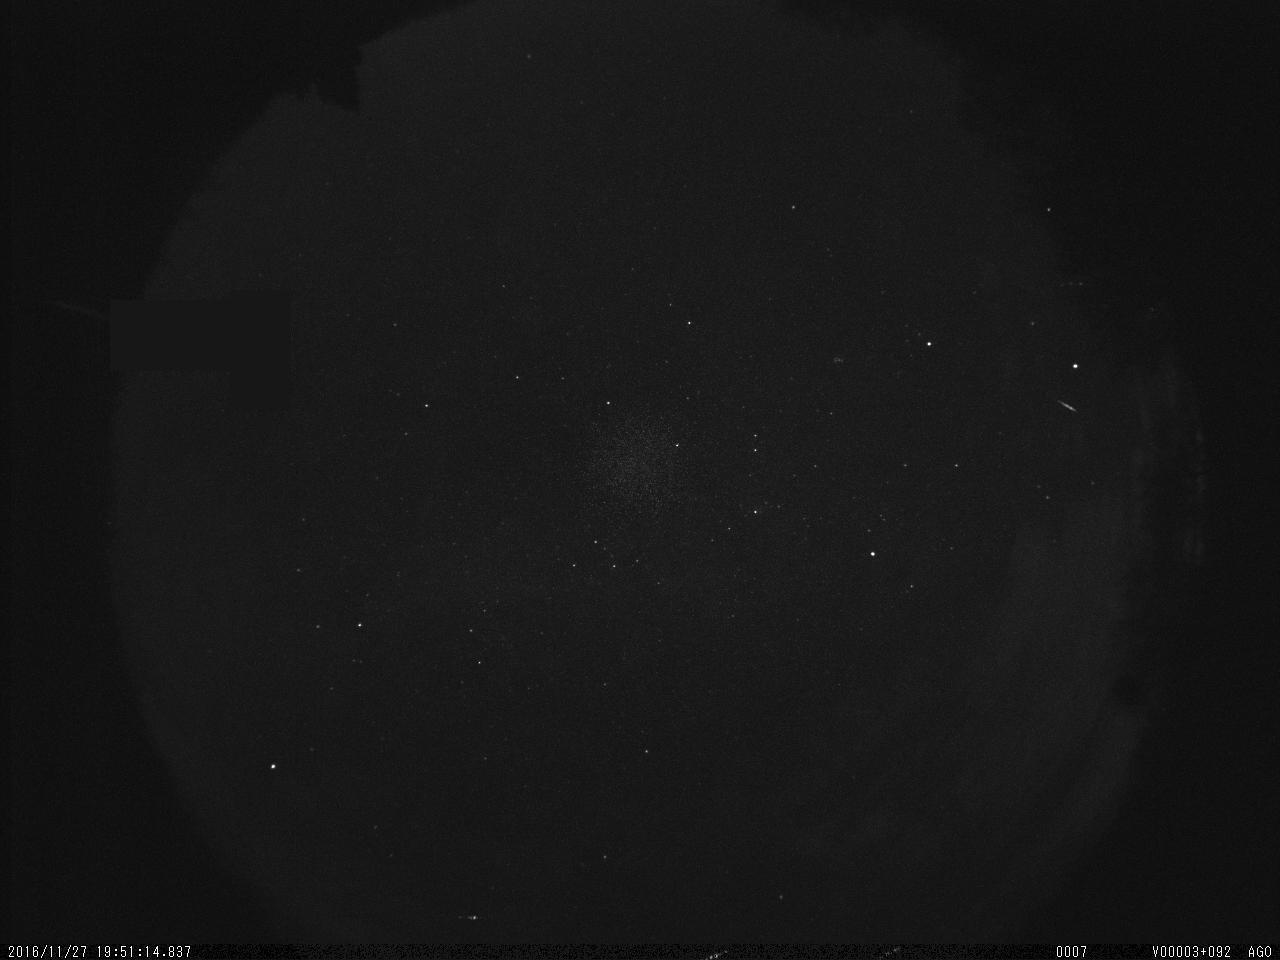meteor: (1046, 389, 1090, 423)
